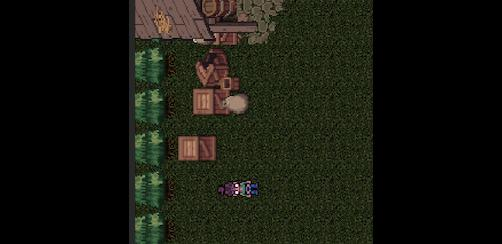Hide: (170, 120, 224, 176)
Obstacle: (135, 0, 304, 44), (188, 45, 252, 122), (134, 124, 174, 167), (134, 166, 174, 208), (134, 42, 174, 84), (134, 84, 174, 126), (134, 205, 174, 244)
Victim: (217, 172, 263, 204)
